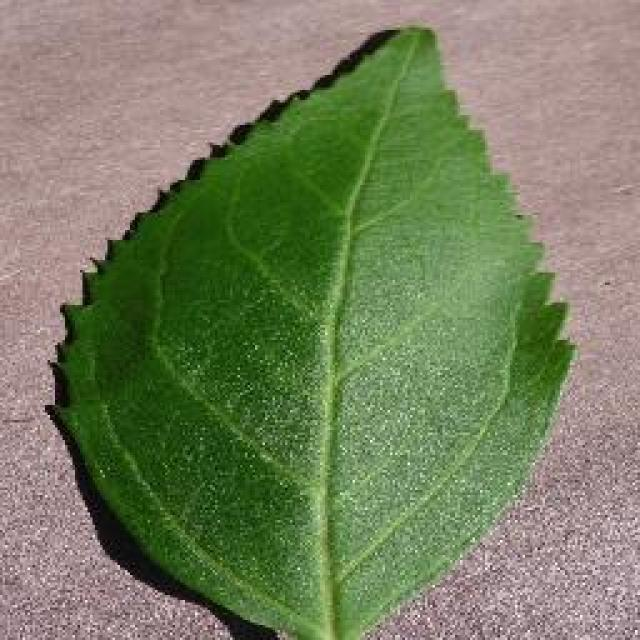Cherry___healthy: (42, 10, 590, 640)
